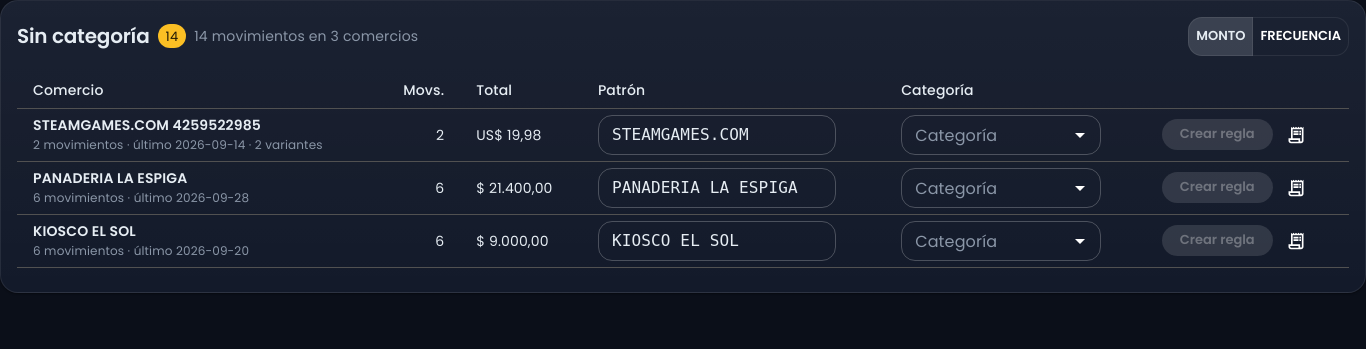
Scenario: UncategorizedInbox en compu › ofrece las categorías existentes, sin «Sin categoría» y con las de las reglas
Expected: the table is shown, [17,72,1349,268]
Click the dropdown labelled "Categoría" in the row of "PANADERIA LA ESPIGA": (985,188) [907,174,1062,202]
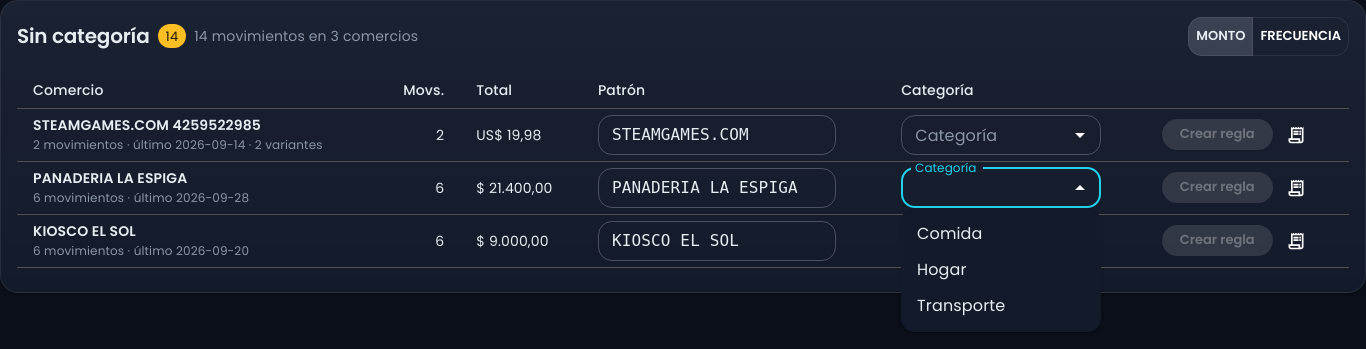
Expected: the options read "Comida", "Hogar", "Transporte", in this order, [917,222,982,245]; [917,258,967,281]; [917,294,1005,317]
